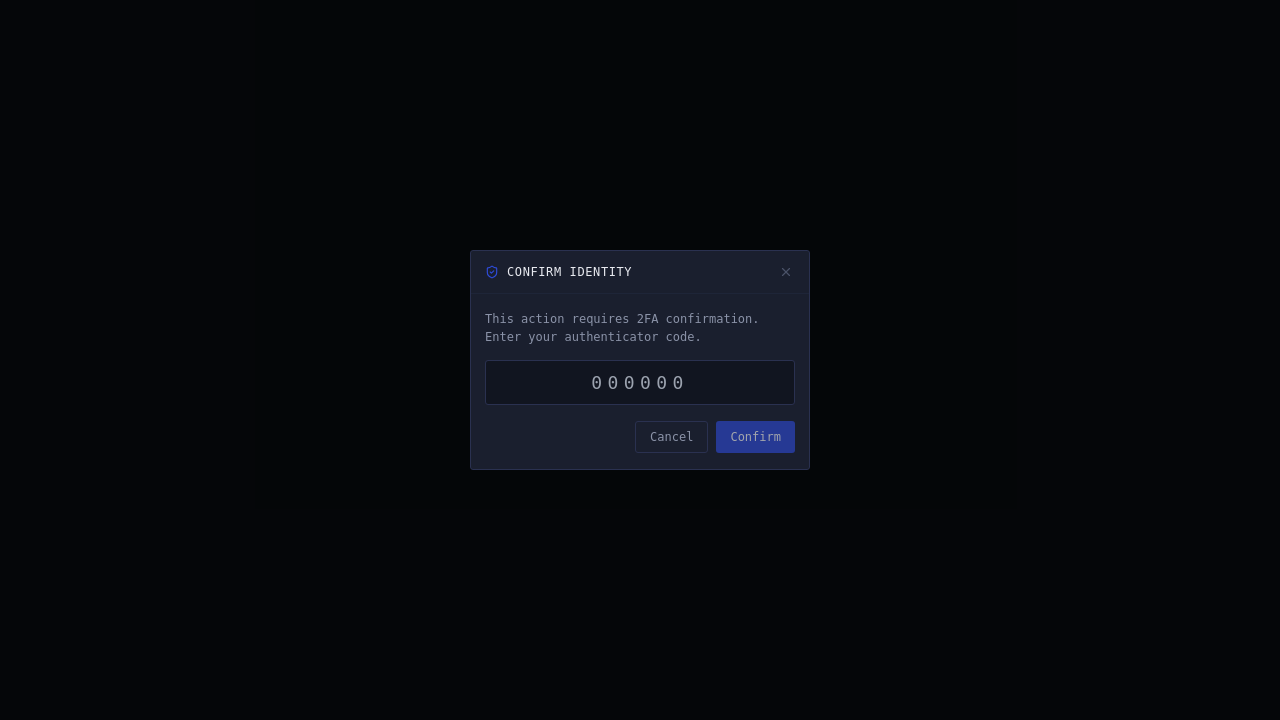
Test case: StepUpModal — error handling › should show "2FA is not enabled" error for 2fa_not_enabled response
In the field with placeholder "000000": (640, 382) [485,360,795,405], type "111111"
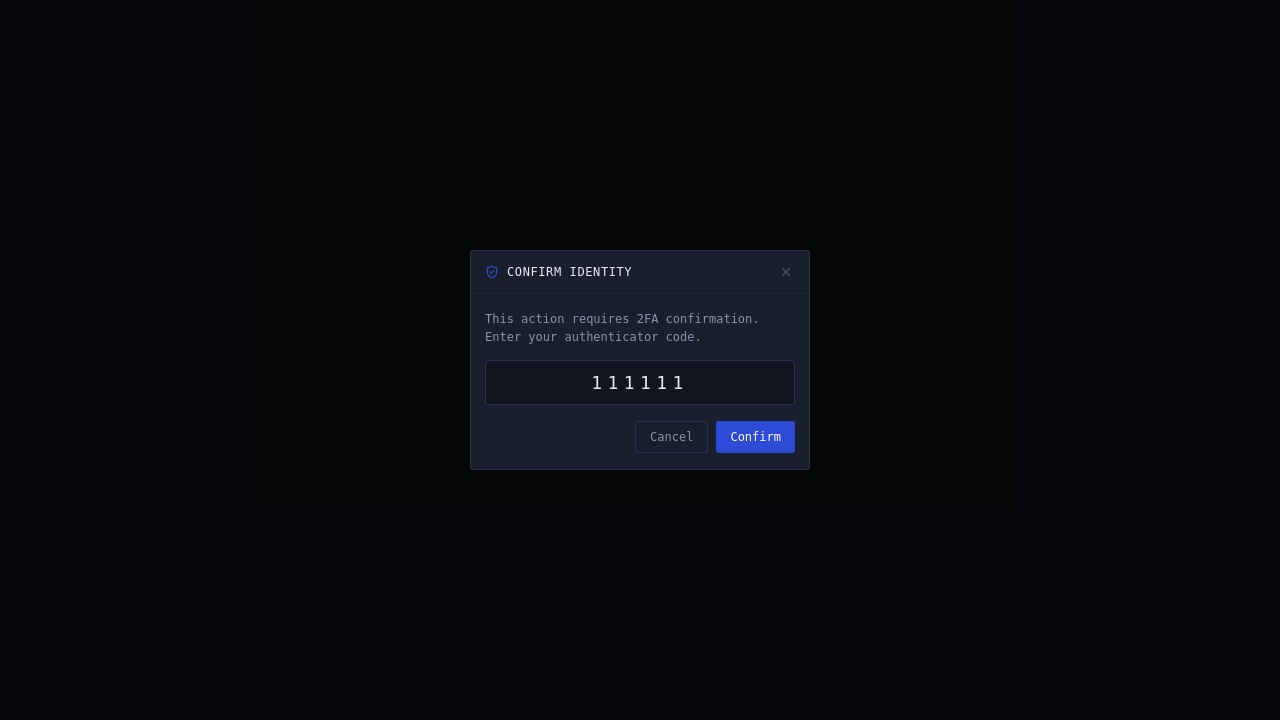
Click the button "Confirm": click(756, 437) [716,421,795,453]
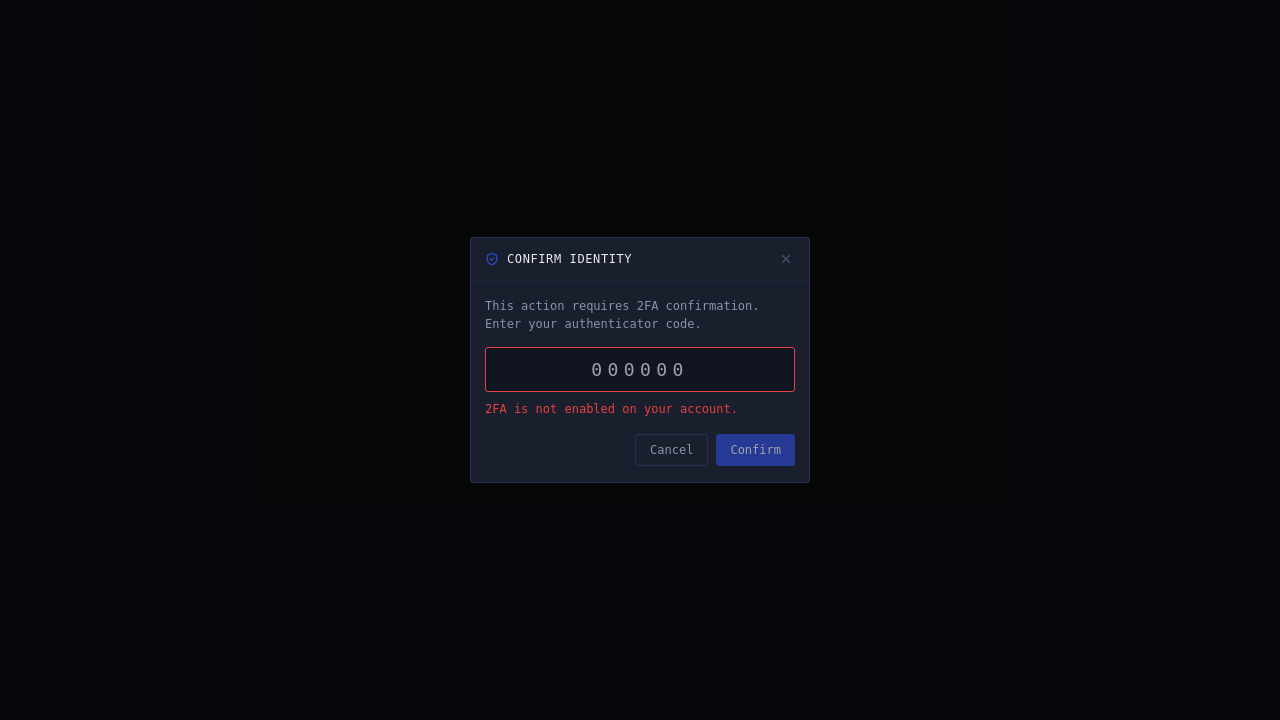
Check: the text "2FA is not enabled on your account." is shown, box [485,402,738,416]
